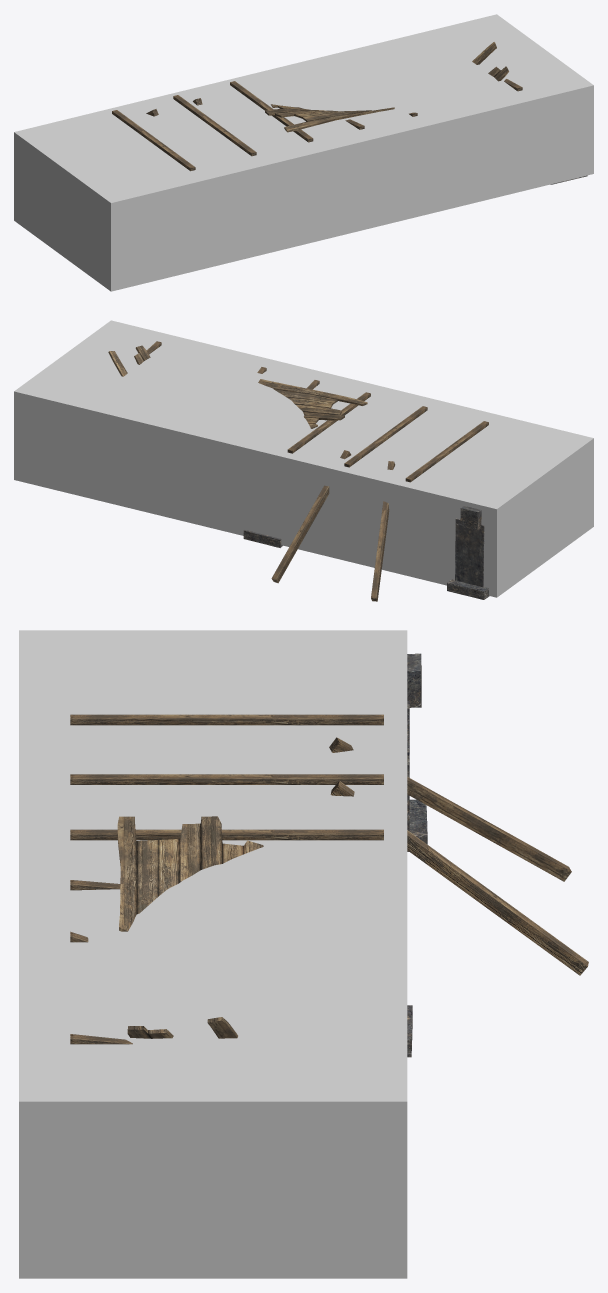
The model's file is House_Ruins_02.fbx.
3 views of the same model, one above another, from view 1: azimuth 30°, elevation 25°; view 2: azimuth 150°, elevation 25°; view 3: azimuth 270°, elevation 25° (orthographic). The views are drawn at different scales.
Parts seen in each view (by area): view 1: House_ruins_02_Colider, Wood, WoodPlanks; view 2: House_ruins_02_Colider, Wood, StoneBricks, WoodPlanks; view 3: House_ruins_02_Colider, Wood, WoodPlanks, StoneBricks.
Boxes of the visible parts, x1,y1,x2,y2 form: House_ruins_02_Colider: (14,14,593,291); Wood: (112,79,522,171); WoodPlanks: (265,42,508,132); House_ruins_02_Colider: (14,320,593,597); Wood: (146,341,488,601); StoneBricks: (243,506,489,599); WoodPlanks: (108,345,367,428); House_ruins_02_Colider: (19,630,407,1278); Wood: (70,714,588,1044); WoodPlanks: (117,816,263,1038); StoneBricks: (407,653,427,1057).
Bounding box in the file's own units: 791 × 171 × 404.
